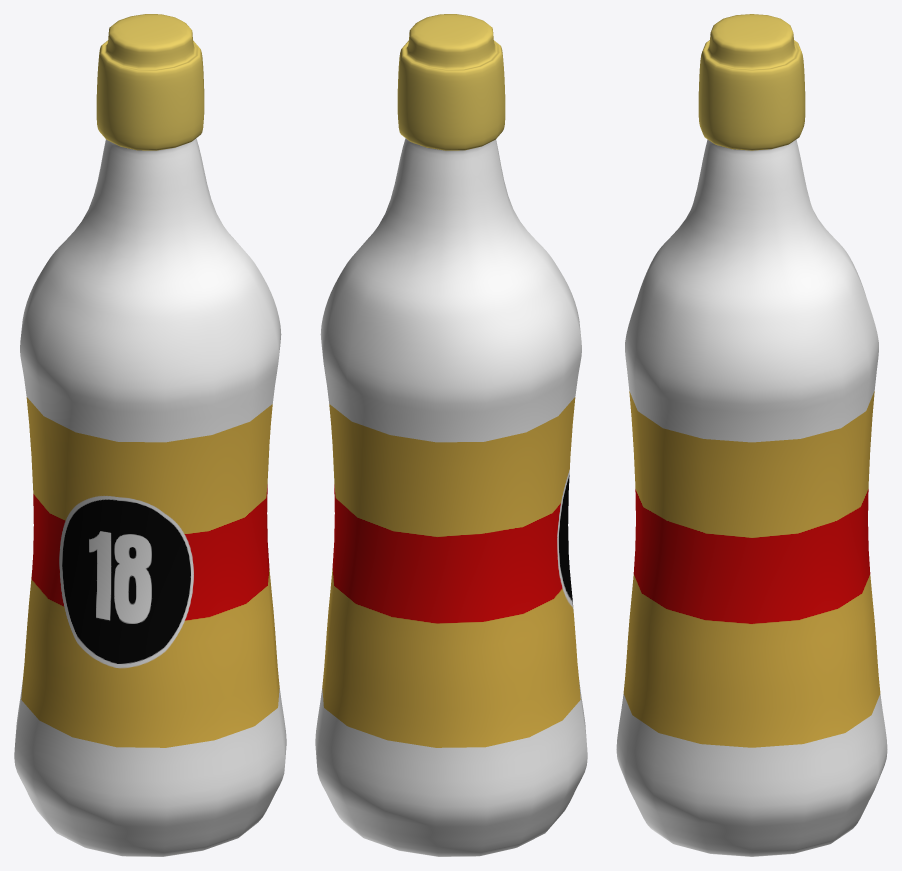
Rendered from garrafaSeuZe.fbx.
The picture shows the model from 3 angles, left to right: view 1: azimuth 30°, elevation 25°; view 2: azimuth 150°, elevation 25°; view 3: azimuth 270°, elevation 25°; orthographic projection.
Visible parts, largest first — view 1: Cube.001; view 2: Cube.001; view 3: Cube.001.
Part boxes in pixels (box(x1,y1,x2,y2)): Cube.001: box(14, 14, 286, 856); Cube.001: box(315, 14, 587, 856); Cube.001: box(616, 14, 887, 856).
Bounding box in the file's own units: 55.96 × 179 × 55.96.
Materials: 3 (1 with a texture image).
